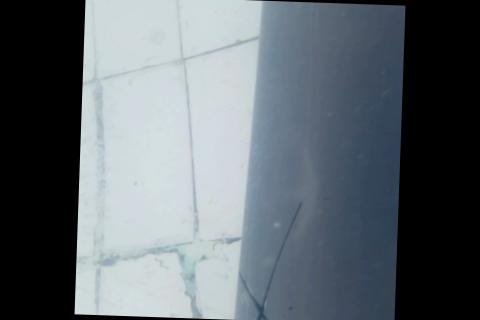keretakan: (236, 196, 305, 320)
